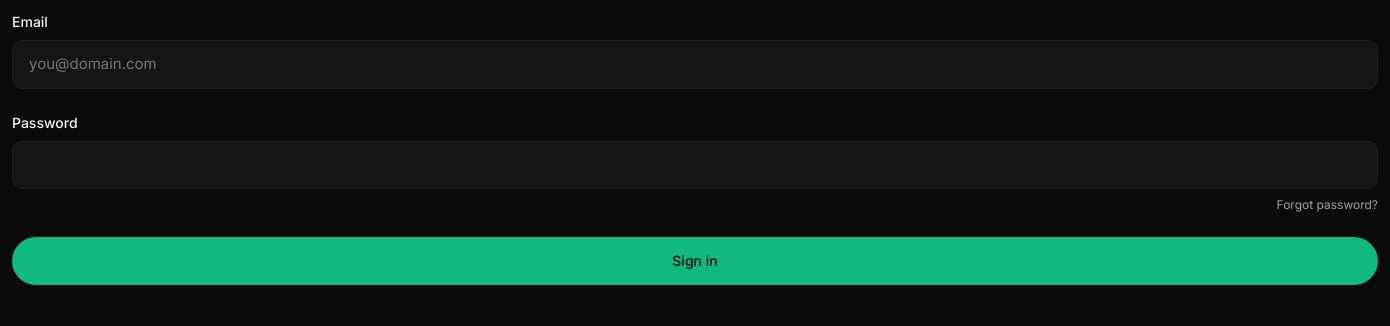
Scenario: SignInForm › requires password
The image size is (1390, 326).
Type "user@example.com" into the field labelled "Email". click: (695,64)
box: [12, 40, 1378, 88]
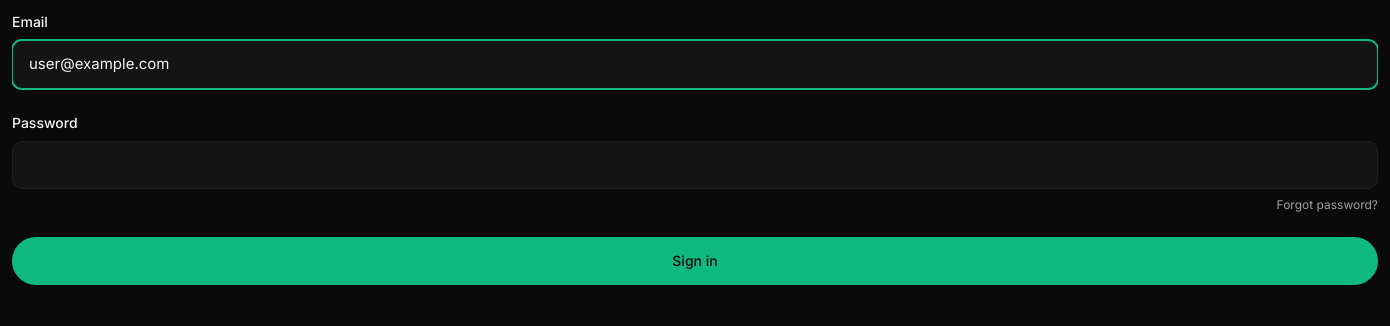
Click the button "Sign in". click: (695,261)
box: [12, 237, 1378, 285]
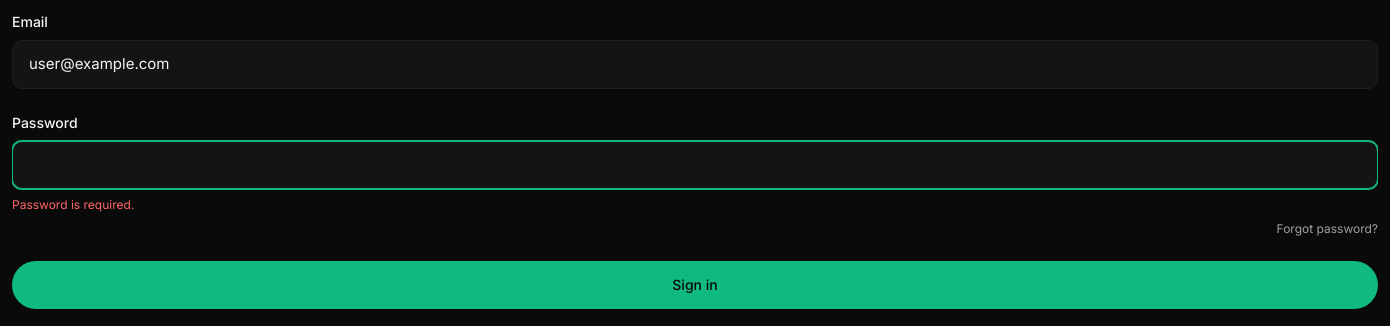
Check: the text "Password is required." is shown, box [12, 197, 134, 212]
